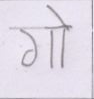o_matra: (55, 7, 70, 63)
